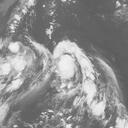cyclone: (50, 40, 94, 87)
